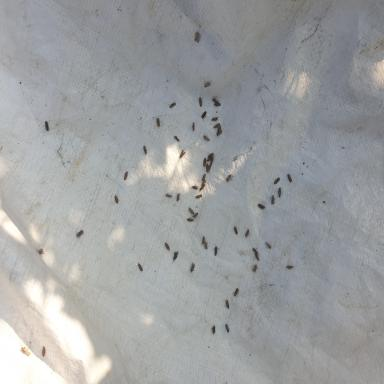pbw: (188, 261, 196, 275), (21, 347, 31, 357), (75, 229, 84, 240), (164, 240, 171, 252), (234, 222, 239, 238), (201, 110, 207, 122), (252, 247, 260, 256), (214, 246, 220, 258), (277, 186, 283, 198), (225, 174, 234, 182), (189, 184, 201, 190), (265, 242, 275, 249), (215, 124, 222, 134), (270, 194, 277, 204), (206, 155, 216, 162), (198, 96, 204, 107), (273, 176, 281, 184), (178, 150, 186, 158), (165, 191, 173, 199), (203, 80, 211, 88), (211, 116, 219, 124), (211, 123, 220, 130), (169, 100, 176, 109), (210, 97, 220, 103), (143, 140, 147, 155), (190, 122, 196, 132), (136, 261, 142, 271), (43, 121, 49, 131), (224, 297, 229, 309), (176, 191, 182, 201), (41, 345, 46, 357), (123, 168, 128, 180), (192, 212, 199, 220), (258, 203, 266, 210), (244, 227, 249, 238), (286, 264, 295, 270), (200, 236, 205, 246), (255, 252, 260, 262), (203, 135, 210, 142), (252, 264, 258, 272), (200, 184, 206, 192), (209, 158, 215, 166), (233, 288, 239, 296), (187, 217, 196, 222), (287, 174, 292, 183), (201, 173, 206, 182), (188, 207, 194, 214), (214, 102, 221, 108), (195, 194, 202, 200), (207, 152, 214, 158), (174, 135, 180, 142), (201, 179, 207, 186), (203, 158, 207, 168), (225, 323, 229, 333), (156, 117, 160, 127), (204, 240, 208, 249), (114, 195, 118, 203), (207, 165, 211, 173), (206, 163, 208, 172)
